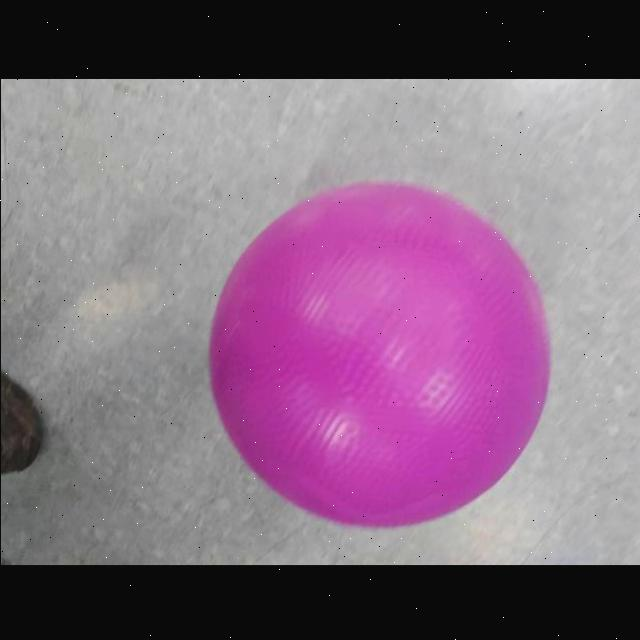P: (206, 174, 554, 542)
